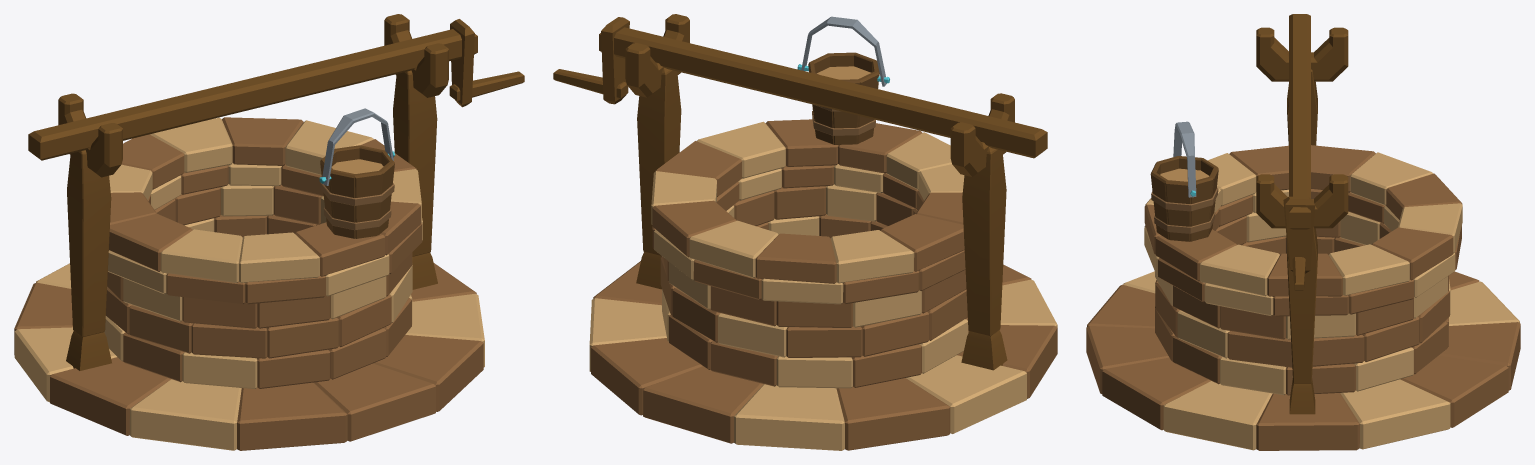
The model's file is props_92.gltf.
3 views of the same model, side by side, from view 1: azimuth 30°, elevation 25°; view 2: azimuth 150°, elevation 25°; view 3: azimuth 270°, elevation 25° (orthographic). The views are drawn at different scales.
Visible parts, largest first — view 1: props_92; view 2: props_92; view 3: props_92.
Part boxes in pixels (left/top/right/bottom): props_92: left=14, top=14, right=524, bottom=450; props_92: left=553, top=14, right=1057, bottom=450; props_92: left=1086, top=14, right=1520, bottom=450.
Bounding box in the file's own units: 3.44 × 1.89 × 2.88.
1 material, 1 textured.
